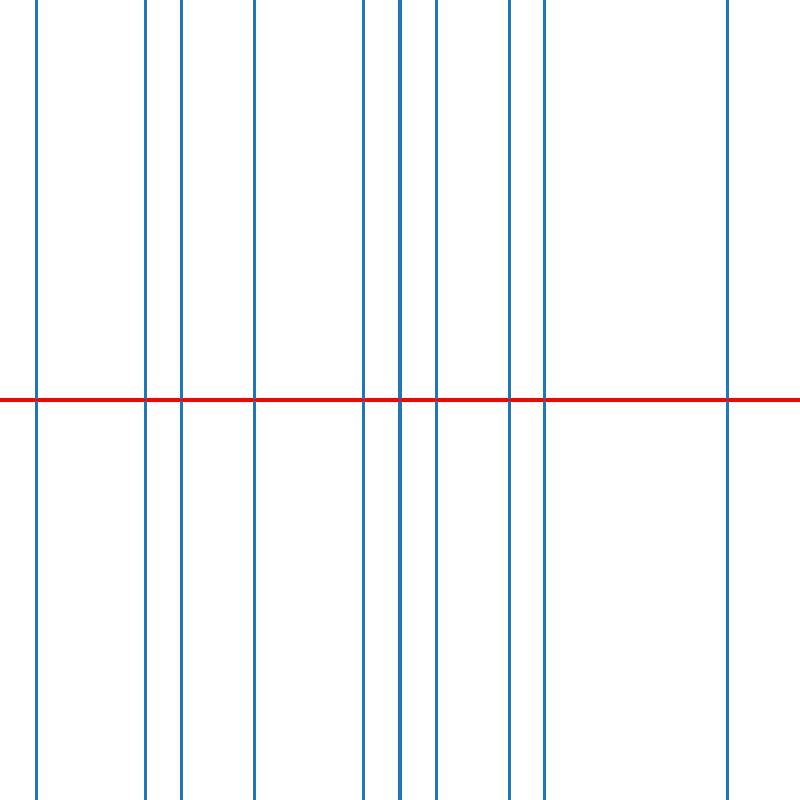root: (541, 396, 549, 404), (32, 396, 40, 404), (432, 396, 440, 404), (141, 396, 149, 404), (250, 396, 258, 404), (360, 396, 367, 404), (723, 396, 730, 404), (396, 396, 403, 404), (178, 396, 185, 404), (505, 396, 512, 404)
